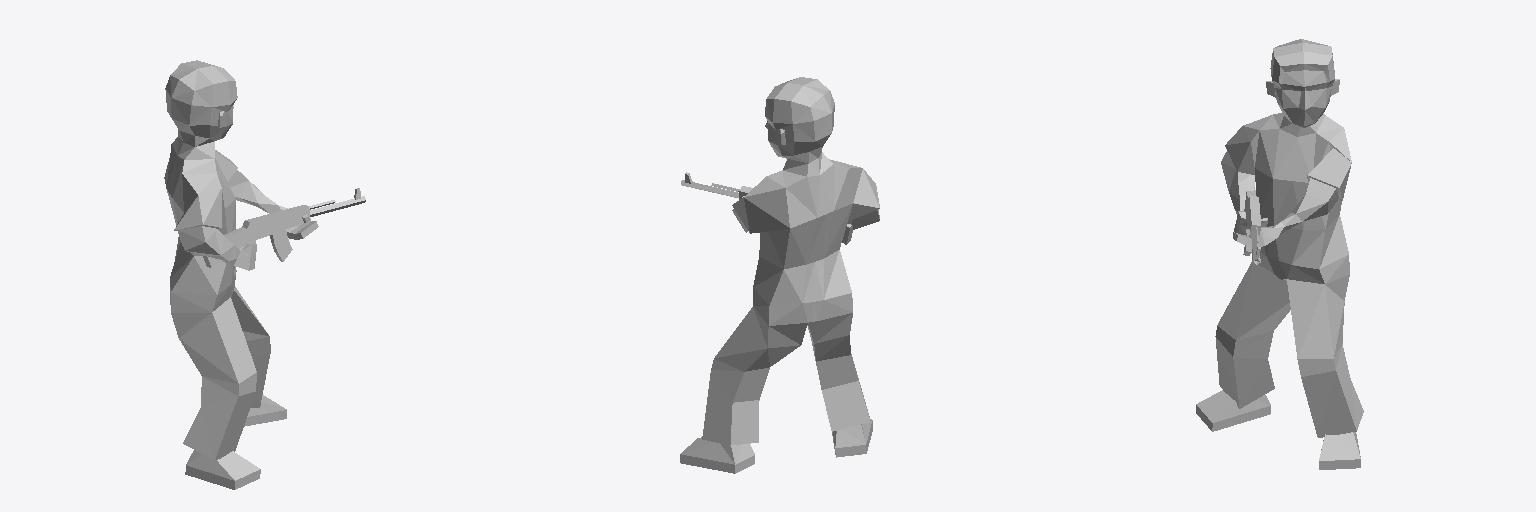
Rendered from player_male_idle_2.obj.
The picture shows the model from 3 angles: view 1: azimuth 30°, elevation 25°; view 2: azimuth 150°, elevation 25°; view 3: azimuth 270°, elevation 25°; orthographic projection.
Bounding box in the file's own units: 0.9226 × 1.73 × 0.6904.